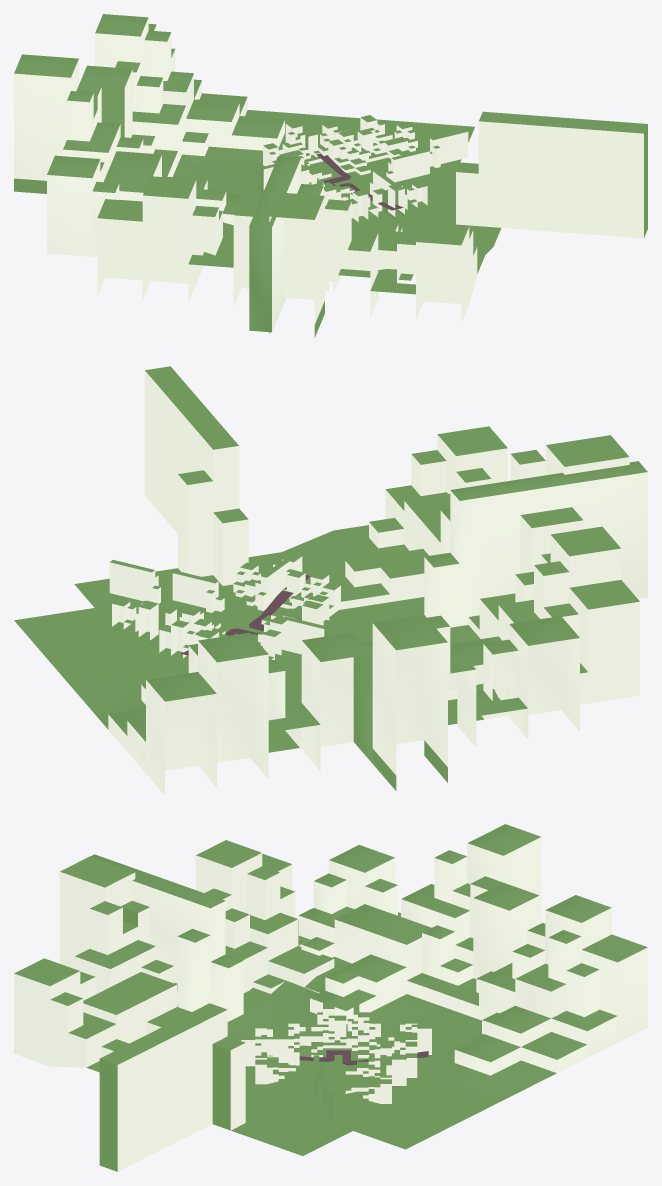
The model's file is hills_base.glb.
3 views of the same model, one above another, from view 1: azimuth 30°, elevation 25°; view 2: azimuth 150°, elevation 25°; view 3: azimuth 270°, elevation 25° (orthographic). The views are drawn at different scales.
Parts seen in each view (by area): view 1: Plane.002, Plane.003, Plane.006, Plane.004, Plane.005, Plane.001, Plane; view 2: Plane.003, Plane.002, Plane.006, Plane.004, Plane.001, Plane.005, Plane; view 3: Plane.003, Plane.002, Plane.001, Plane.006, Plane.004, Plane.005, Plane.
Boxes of the visible parts, x1,y1,x2,y2 form: Plane.002: (97, 111, 647, 337); Plane.003: (14, 14, 474, 332); Plane.006: (328, 115, 468, 191); Plane.004: (325, 149, 429, 221); Plane.005: (260, 121, 373, 194); Plane.001: (287, 154, 398, 211); Plane: (316, 153, 403, 210); Plane.003: (14, 461, 647, 794); Plane.002: (74, 366, 640, 752); Plane.006: (109, 560, 258, 644); Plane.004: (172, 553, 340, 620); Plane.001: (207, 558, 329, 659); Plane.005: (159, 614, 327, 660); Plane: (181, 575, 310, 655); Plane.003: (90, 824, 647, 1149); Plane.002: (14, 840, 352, 1171); Plane.001: (255, 1003, 380, 1077); Plane.006: (299, 1043, 406, 1118); Plane.004: (241, 1023, 324, 1096); Plane.005: (325, 997, 431, 1077); Plane: (299, 1050, 428, 1065).
Size of the model in its own units: 156 by 38.55 by 174.
